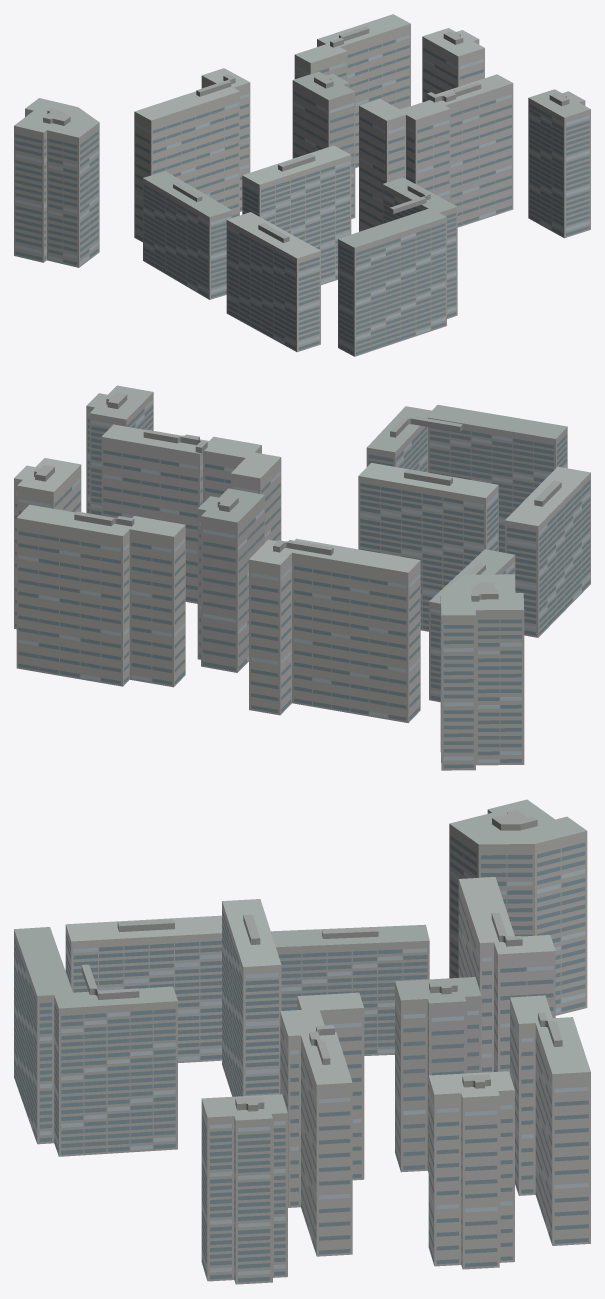
File: apt-a13084804.glb
3 views of the same model, one above another, from view 1: azimuth 30°, elevation 25°; view 2: azimuth 150°, elevation 25°; view 3: azimuth 270°, elevation 25° (orthographic). The views are drawn at different scales.
Parts seen in each view (by area): view 1: apt-a13084804; view 2: apt-a13084804; view 3: apt-a13084804.
Boxes of the visible parts, x1=… form: apt-a13084804: x1=14, y1=14, x2=590, y2=356; apt-a13084804: x1=14, y1=385, x2=590, y2=770; apt-a13084804: x1=14, y1=799, x2=590, y2=1284.
Size of the model in its own units: 252 by 70 by 200.
